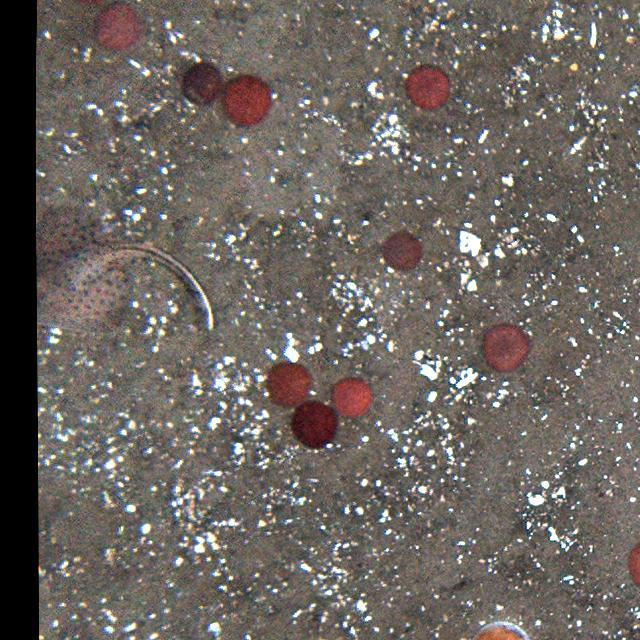skate: (38, 186, 218, 345)
